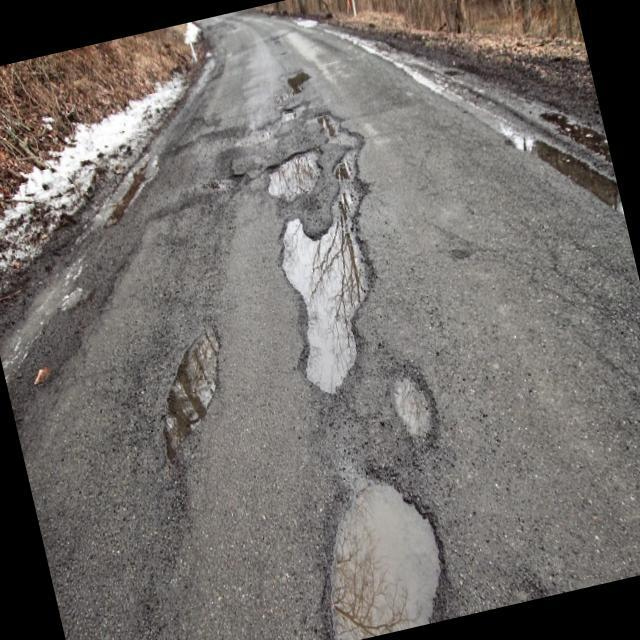Pothole: (288, 445, 459, 640), (266, 199, 396, 402), (140, 318, 242, 458), (378, 352, 449, 465), (260, 143, 330, 209), (326, 136, 366, 190), (235, 117, 284, 155), (309, 105, 344, 138), (209, 168, 246, 198), (286, 63, 312, 96), (277, 100, 301, 123)
